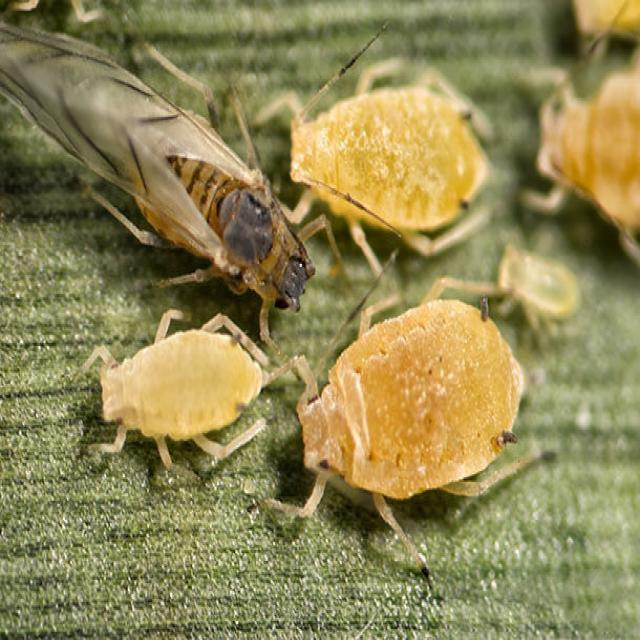Aphid-Grown-: (274, 269, 564, 560), (268, 53, 493, 270), (72, 292, 285, 494)
Aphid-Grown-have wings-: (1, 11, 336, 346)
